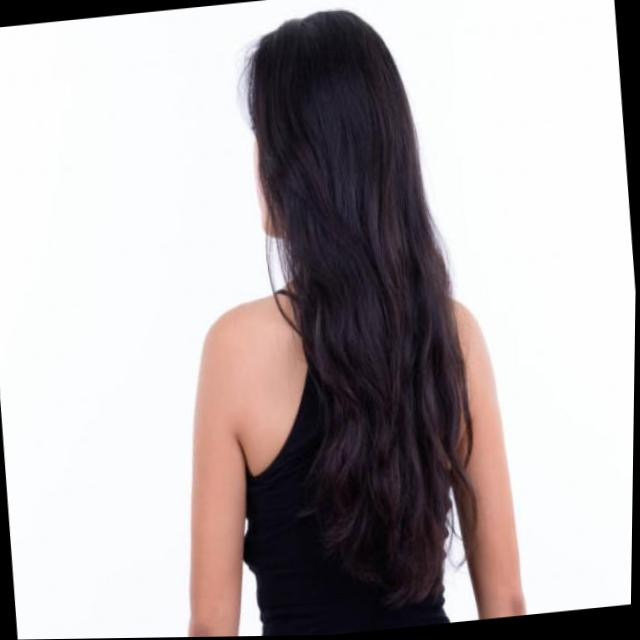no helmet: (222, 0, 436, 281)
